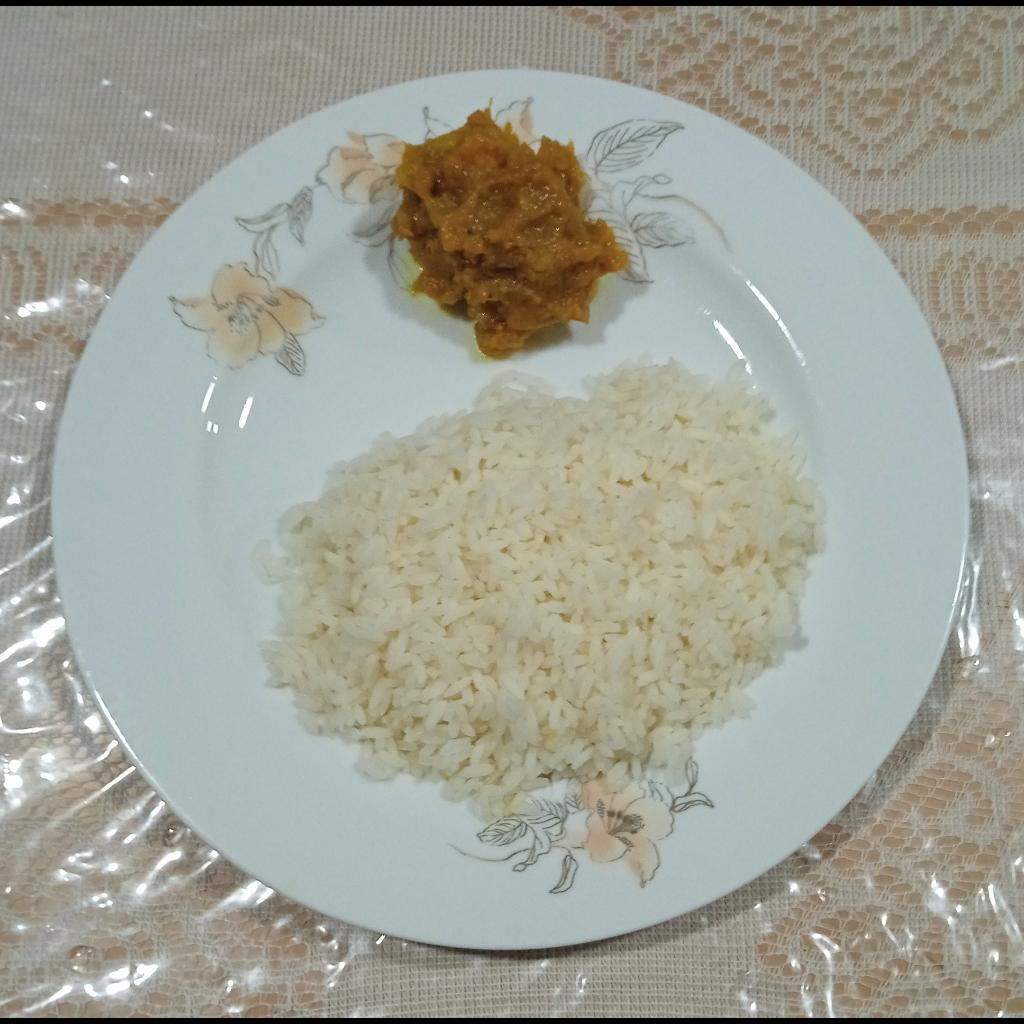rice: (254, 351, 832, 814)
vorta: (389, 109, 632, 361)
